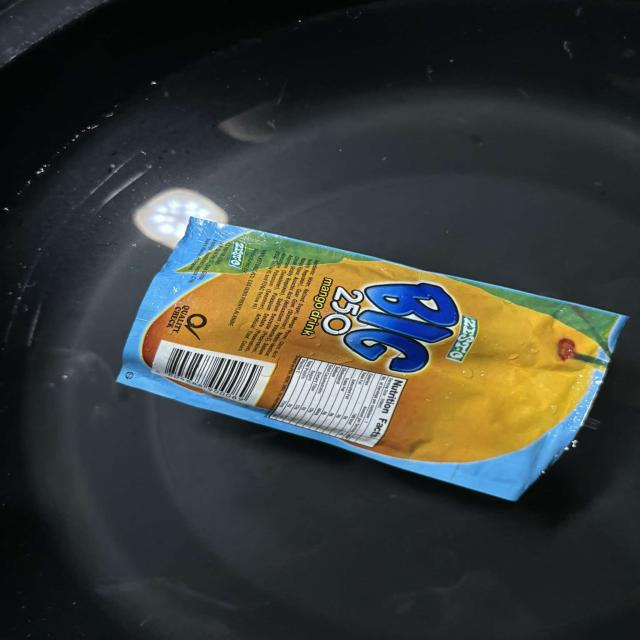Plastic Pouch: (100, 202, 640, 515)
